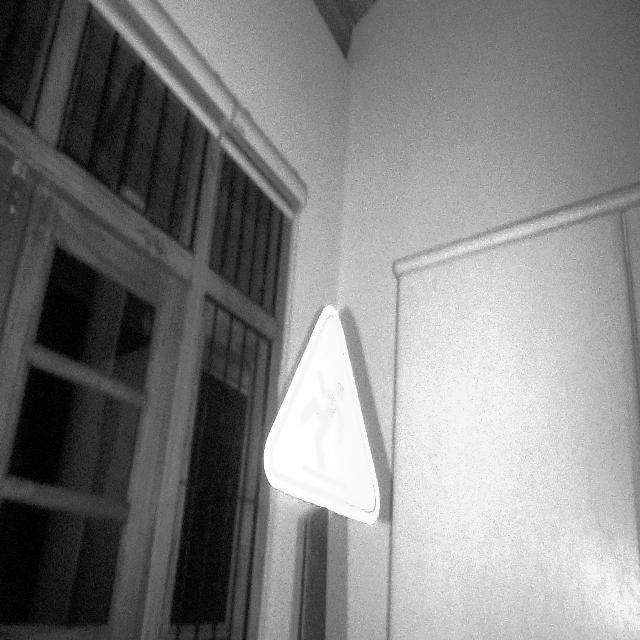Sign: (262, 303, 381, 528)
